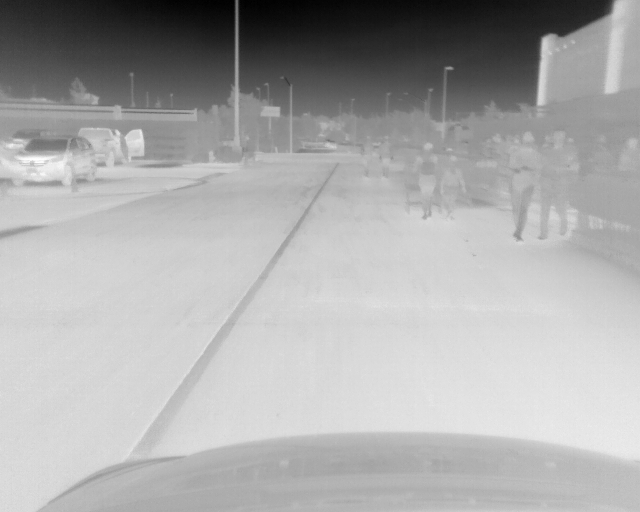car: (11, 135, 99, 188), (77, 125, 146, 165), (6, 135, 30, 151), (322, 137, 338, 151)
people: (542, 130, 575, 236), (509, 129, 537, 241), (413, 142, 437, 219), (442, 157, 467, 219), (487, 134, 508, 206), (585, 135, 615, 175), (377, 136, 393, 180), (620, 137, 638, 173), (360, 135, 374, 179), (118, 133, 129, 164)
